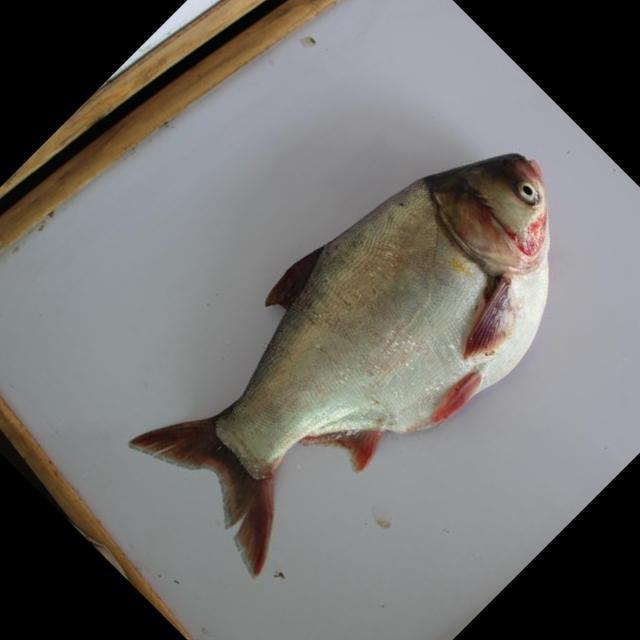SilverCarp: (165, 139, 560, 574)
